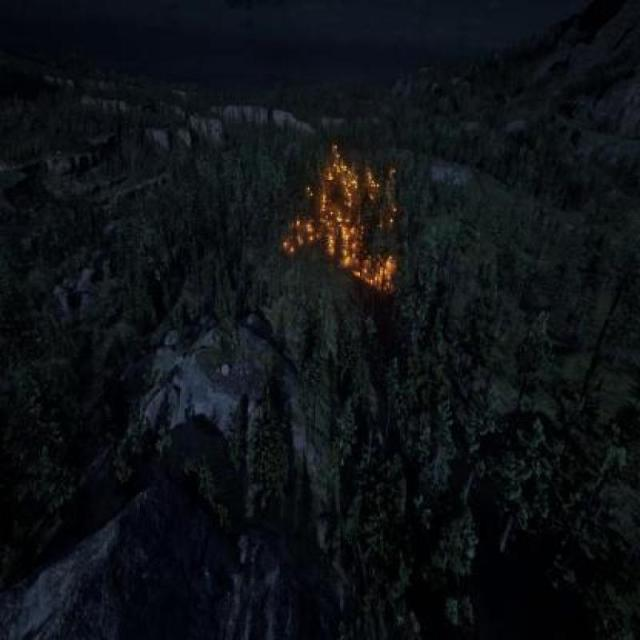Fire: (285, 143, 407, 322)
